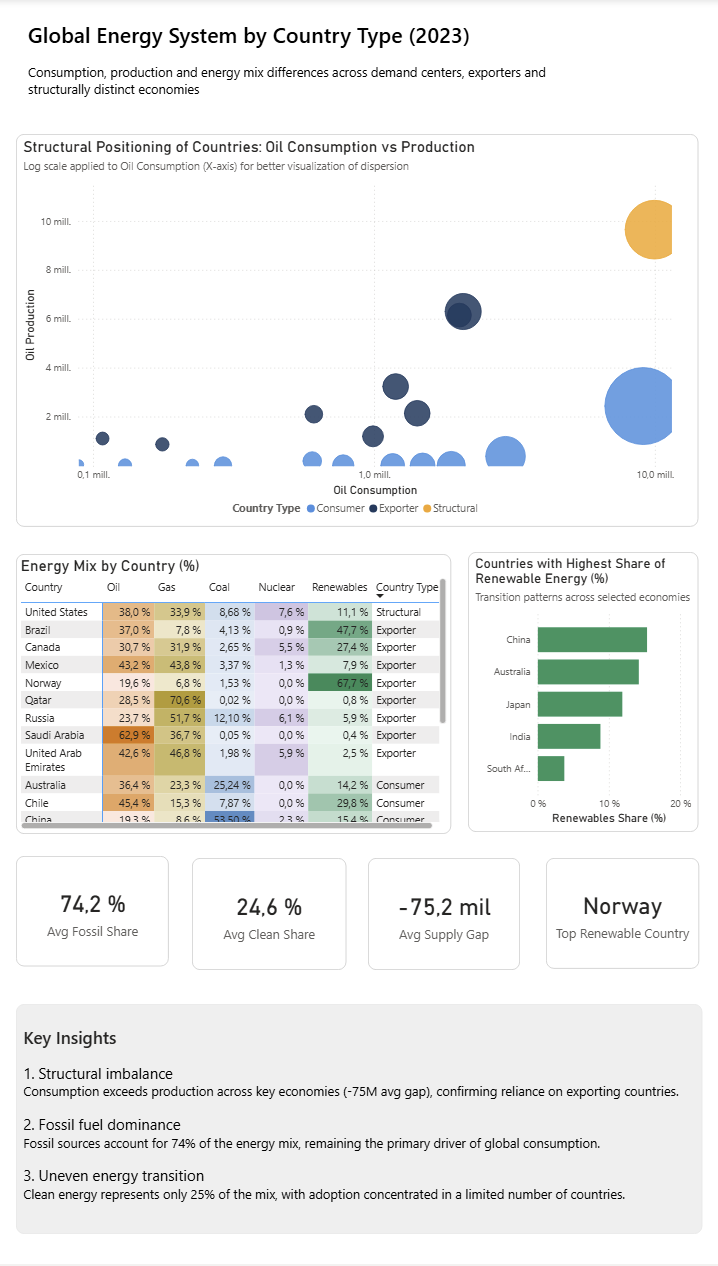

The page's visual inventory and layout, read from the dashboard file:
{"tool":"powerbi","page":{"name":"Structure Analysis","canvas":[900,1600],"ordinal":0},"visuals":[{"type":"scatterChart","title":"Structural Positioning of Countries: Oil Consumption vs Production ","fields":{"Y":["Sum(owid-energy-data.oil_production)"],"X":["Sum(owid-energy-data.oil_consumption)"],"Size":["Sum(owid-energy-data.primary_energy_consumption)"],"Category":["owid-energy-data.country"],"Series":["owid-energy-data.TipoPais"]},"box":[23.5,188.2,852.9,491.2],"z":0},{"type":"textbox","box":[23.6,1274.5,858.2,287.3],"z":1000},{"type":"pivotTable","title":"Energy Mix by Country (%)","fields":{"Values":["owid-energy-data.% Oil","owid-energy-data.% Gas","owid-energy-data.% Coal","owid-energy-data.% Nuclear","owid-energy-data.% Renewables","Min(owid-energy-data.Country Type)"],"Rows":["owid-energy-data.country"]},"box":[23.5,711.8,544.1,350],"z":2000},{"type":"textbox","box":[33.3,41,727,122.9],"z":3000},{"type":"clusteredBarChart","title":"Countries with Highest Share of Renewable Energy (%)","fields":{"Y":["owid-energy-data.% Renewables"],"Category":["owid-energy-data.country"]},"box":[588.2,708.8,288.2,350],"z":4000},{"type":"card","fields":{"Values":["owid-energy-data.Avg Fossil Share"]},"box":[23.5,1091.2,191.2,138.2],"z":5000},{"type":"card","fields":{"Values":["owid-energy-data.Avg Clean Share"]},"box":[241.4,1091.4,192.9,140],"z":6000},{"type":"card","fields":{"Values":["owid-energy-data.Avg Supply Gap"]},"box":[462.9,1091.4,190,140],"z":7000},{"type":"card","fields":{"Values":["owid-energy-data.Top Renewable Country"]},"box":[685.7,1091.4,191.4,138.6],"z":8000}]}

Visuals, with their boxes in screenshot pixels (x1, y1, x2, y2), scaled from the page's 900x1600 canvas onto the 718x1266 screenshot:
"Structural Positioning of Countries: Oil Consumption vs Production " scatterChart: <region>19, 149, 699, 538</region>
textbox: <region>19, 1008, 703, 1236</region>
"Energy Mix by Country (%)" pivotTable: <region>19, 563, 453, 840</region>
textbox: <region>27, 32, 607, 130</region>
"Countries with Highest Share of Renewable Energy (%)" clusteredBarChart: <region>469, 561, 699, 838</region>
card - owid-energy-data.Avg Fossil Share: <region>19, 863, 171, 973</region>
card - owid-energy-data.Avg Clean Share: <region>193, 864, 346, 974</region>
card - owid-energy-data.Avg Supply Gap: <region>369, 864, 521, 974</region>
card - owid-energy-data.Top Renewable Country: <region>547, 864, 700, 973</region>
